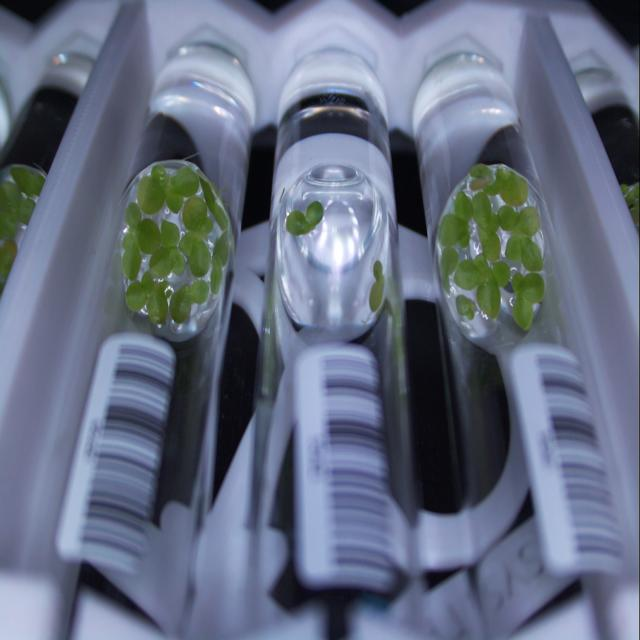Lemna-Gibba: (454, 254, 510, 319), (136, 163, 200, 215), (122, 202, 160, 280), (179, 197, 212, 277), (470, 163, 529, 207), (126, 272, 168, 325), (149, 220, 186, 279), (471, 190, 501, 262), (512, 272, 545, 330), (438, 192, 472, 247), (169, 280, 209, 324), (200, 177, 229, 230), (505, 233, 542, 272), (285, 200, 324, 235), (498, 205, 540, 237), (210, 230, 230, 295), (439, 247, 459, 294), (369, 260, 385, 312), (455, 294, 476, 320), (456, 295, 475, 319)
